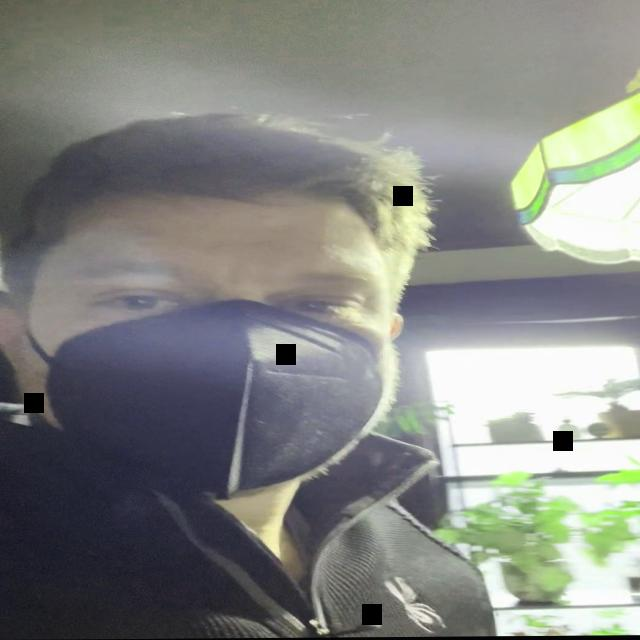Mask: (25, 182, 398, 500)
